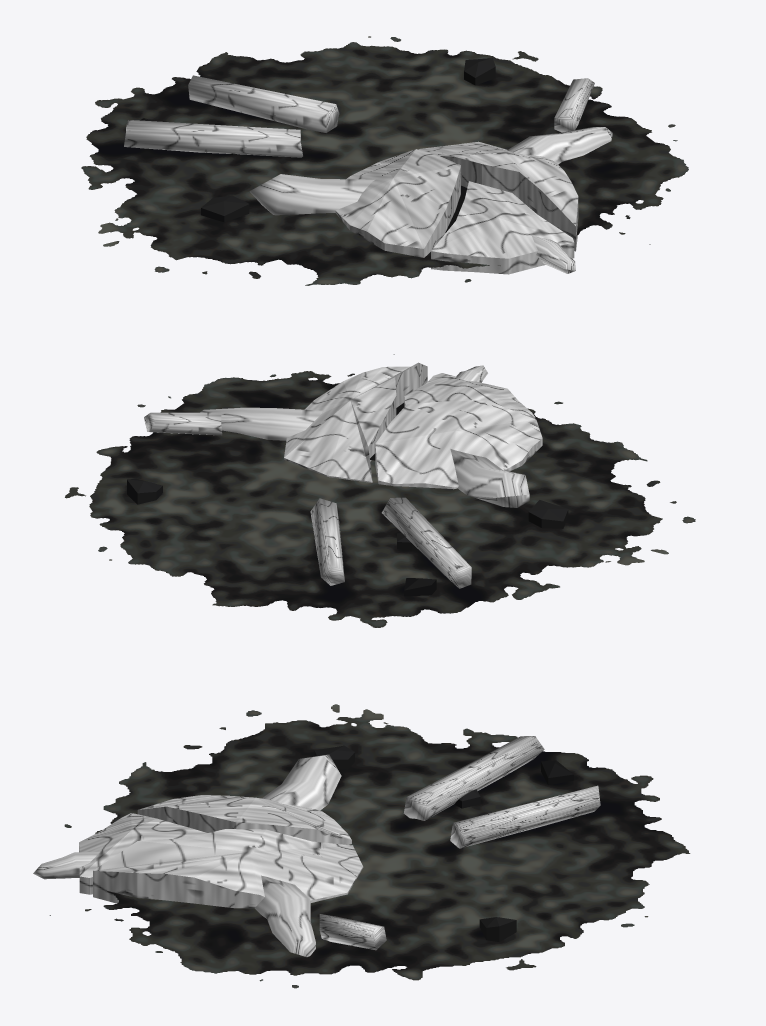
The model's file is CreTreesmudge05.glb.
The picture shows the model from 3 angles, top to bottom: view 1: azimuth 30°, elevation 25°; view 2: azimuth 150°, elevation 25°; view 3: azimuth 270°, elevation 25°; orthographic projection. The views are drawn at different scales.
Parts seen in each view (by area): view 1: CreTreesmudge05_bed; view 2: CreTreesmudge05_bed; view 3: CreTreesmudge05_bed.
Part boxes in pixels (x1,y1,x2,y2): CreTreesmudge05_bed: (81, 36, 688, 285); CreTreesmudge05_bed: (65, 354, 695, 627); CreTreesmudge05_bed: (33, 704, 690, 988).
Size of the model in its own units: 3.66 by 0.2895 by 3.42.
3 materials, 2 textured.
